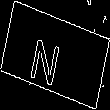N_N: (37, 25, 73, 85)
